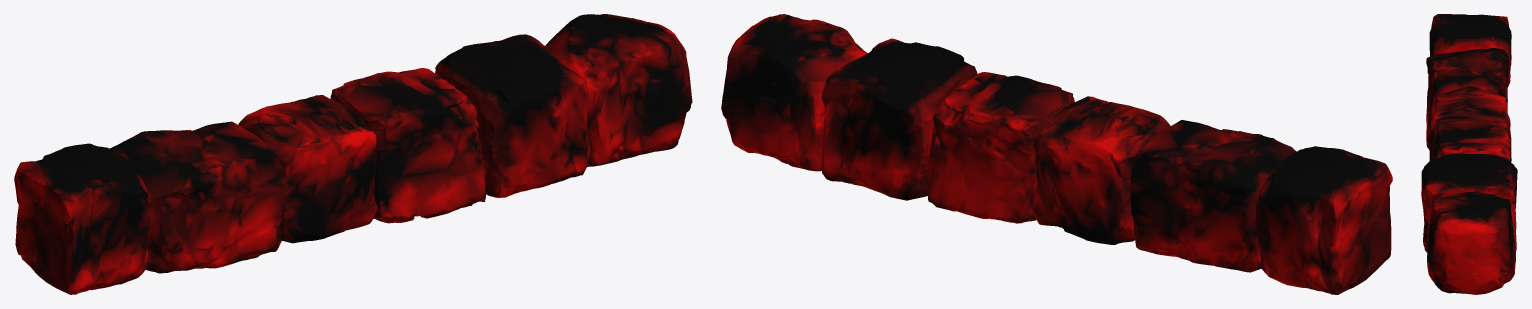
The model's file is SM_Stone_Border_02.fbx.
The picture shows the model from 3 angles, left to right: view 1: azimuth 30°, elevation 25°; view 2: azimuth 150°, elevation 25°; view 3: azimuth 270°, elevation 25°; orthographic projection. The views are drawn at different scales.
Parts seen in each view (by area): view 1: SM_Stone_Border_02_LOD0; view 2: SM_Stone_Border_02_LOD0; view 3: SM_Stone_Border_02_LOD0.
Part boxes in pixels (box(x1,y1,x2,y2)): SM_Stone_Border_02_LOD0: box(14, 14, 692, 294); SM_Stone_Border_02_LOD0: box(721, 14, 1392, 294); SM_Stone_Border_02_LOD0: box(1421, 14, 1517, 294).
Size of the model in its own units: 368 by 69.77 by 64.59.
